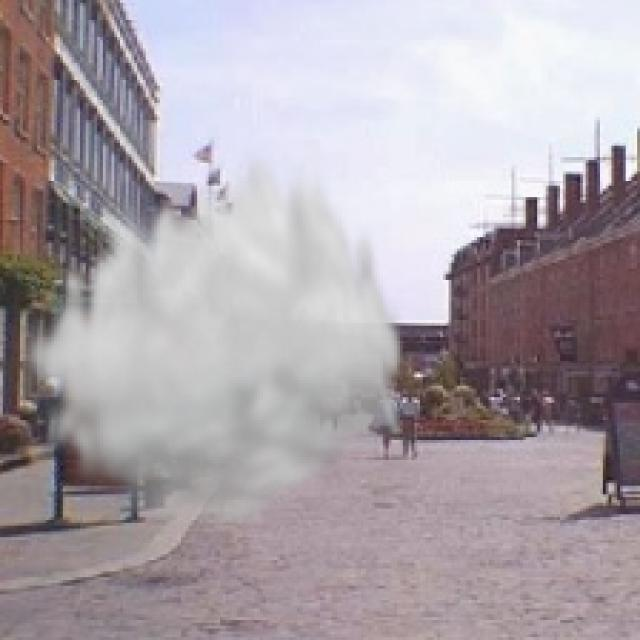Smoke: (20, 140, 409, 534)
